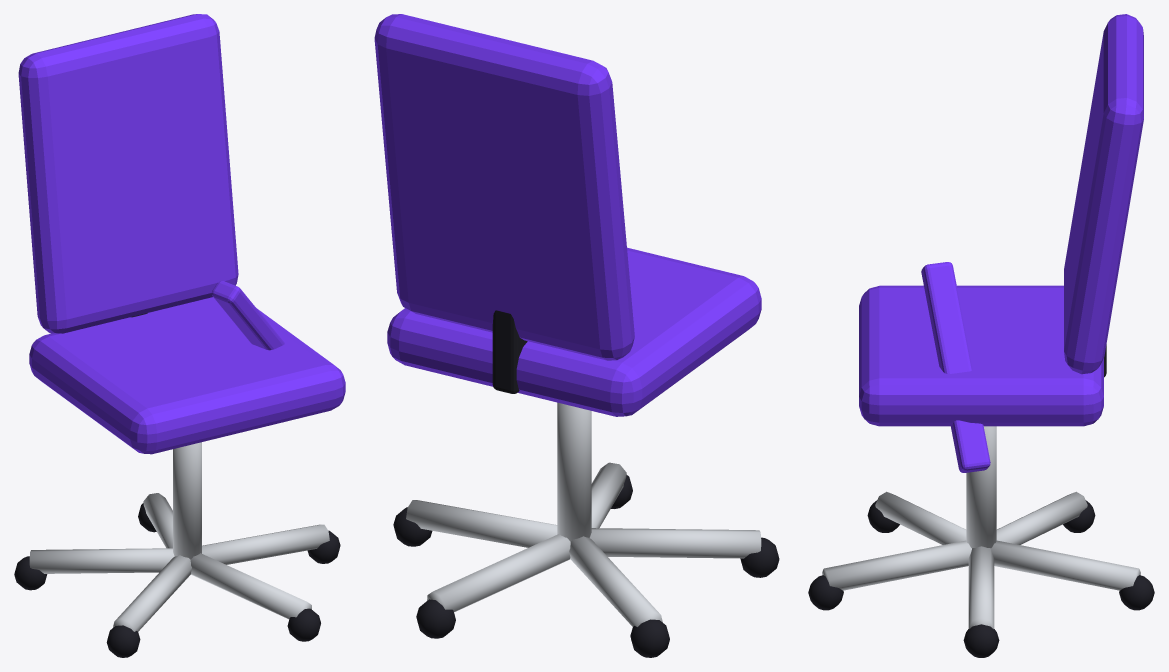
File: Furn_OfficeChair.fbx
The picture shows the model from 3 angles, left to right: view 1: azimuth 30°, elevation 25°; view 2: azimuth 150°, elevation 25°; view 3: azimuth 270°, elevation 25°; orthographic projection. The views are drawn at different scales.
Parts seen in each view (by area): view 1: Furn_OfficeChair; view 2: Furn_OfficeChair; view 3: Furn_OfficeChair.
Boxes of the visible parts, bbox=[...] form: Furn_OfficeChair: bbox=[14, 14, 345, 657]; Furn_OfficeChair: bbox=[374, 14, 779, 657]; Furn_OfficeChair: bbox=[808, 14, 1154, 657].
Size of the model in its own units: 0.6455 by 1.15 by 0.6787.
